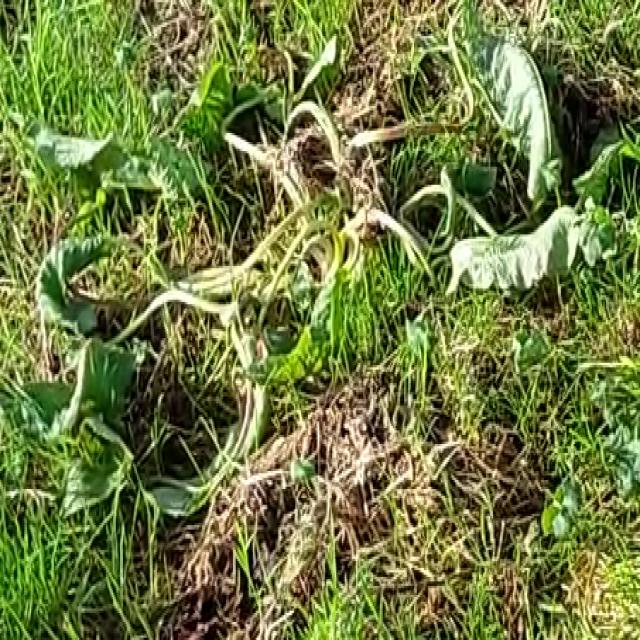organic waste: (8, 18, 609, 536)
